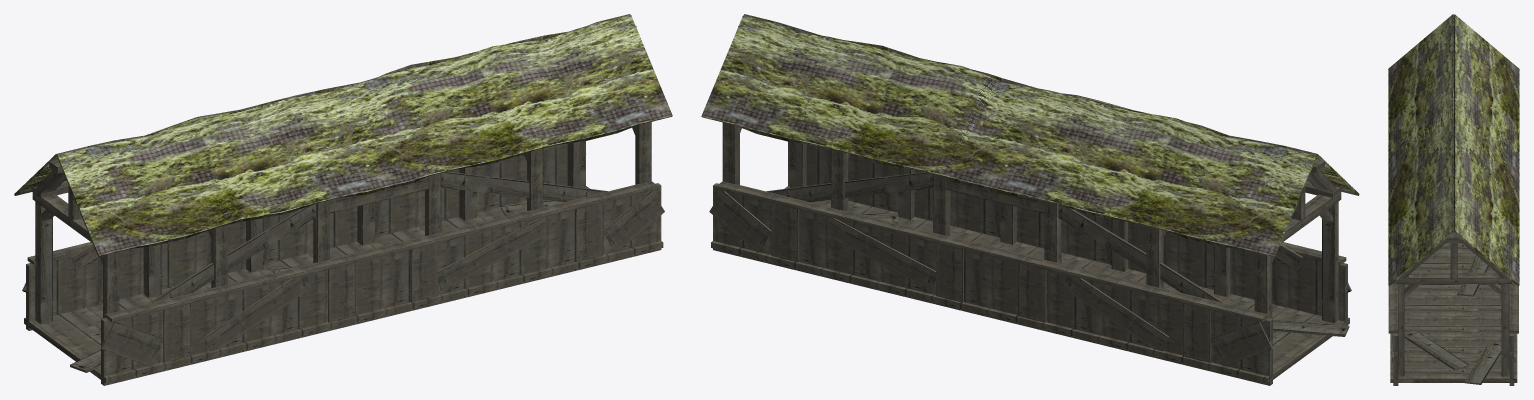
File: bridge_wood_02.fbx
3 views of the same model, side by side, from view 1: azimuth 30°, elevation 25°; view 2: azimuth 150°, elevation 25°; view 3: azimuth 270°, elevation 25° (orthographic). The views are drawn at different scales.
Visible parts, largest first — view 1: Mesh Object; view 2: Mesh Object; view 3: Mesh Object.
Boxes of the visible parts, left/top/right/bottom form: Mesh Object: left=14, top=14, right=672, bottom=385; Mesh Object: left=701, top=14, right=1359, bottom=385; Mesh Object: left=1388, top=14, right=1519, bottom=385.
Bounding box in the file's own units: 9.52 × 3.2 × 2.37.
